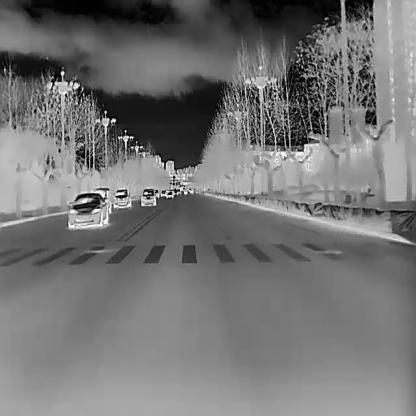car: (67, 191, 107, 227), (113, 187, 132, 207), (140, 188, 156, 206), (166, 191, 173, 199), (160, 188, 166, 197)
